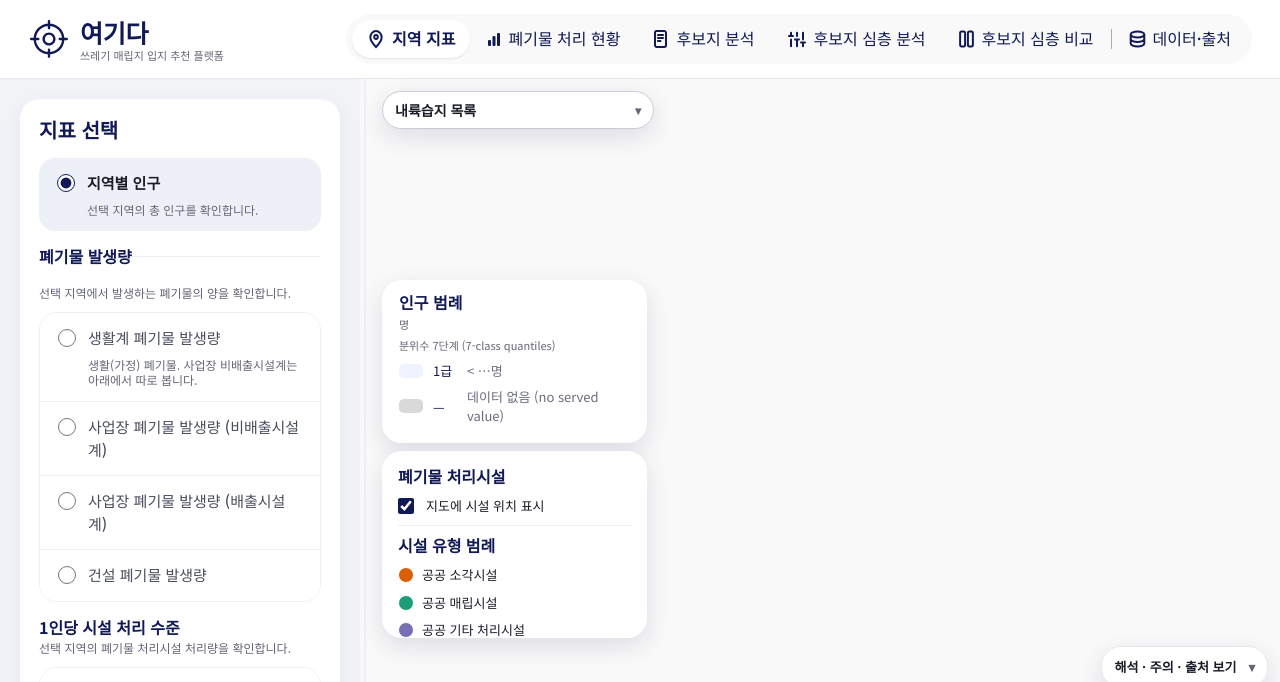
Test: the Figma numbered hierarchy › puts ① 분석 범위 and ② 계산 모델 가중치 설정 in the controls column, in order
Click the button with test id "mode-suitability": (856, 39) left=772, top=20, right=941, bottom=58
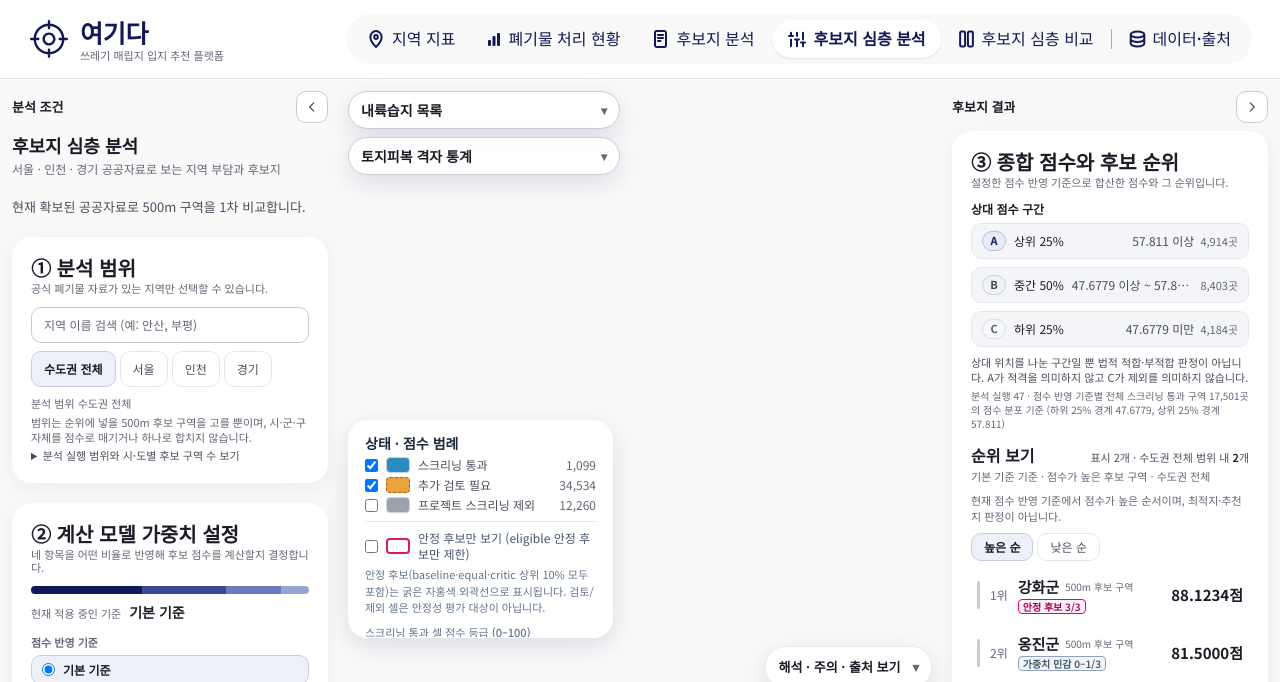
Check: the element with test id "candidate-ranking-counts" is shown, box left=1090, top=449, right=1249, bottom=465
Check: the heading "① 분석 범위" is shown, box left=31, top=252, right=136, bottom=282
Check: the heading "② 계산 모델 가중치 설정" is shown, box left=31, top=519, right=239, bottom=548
